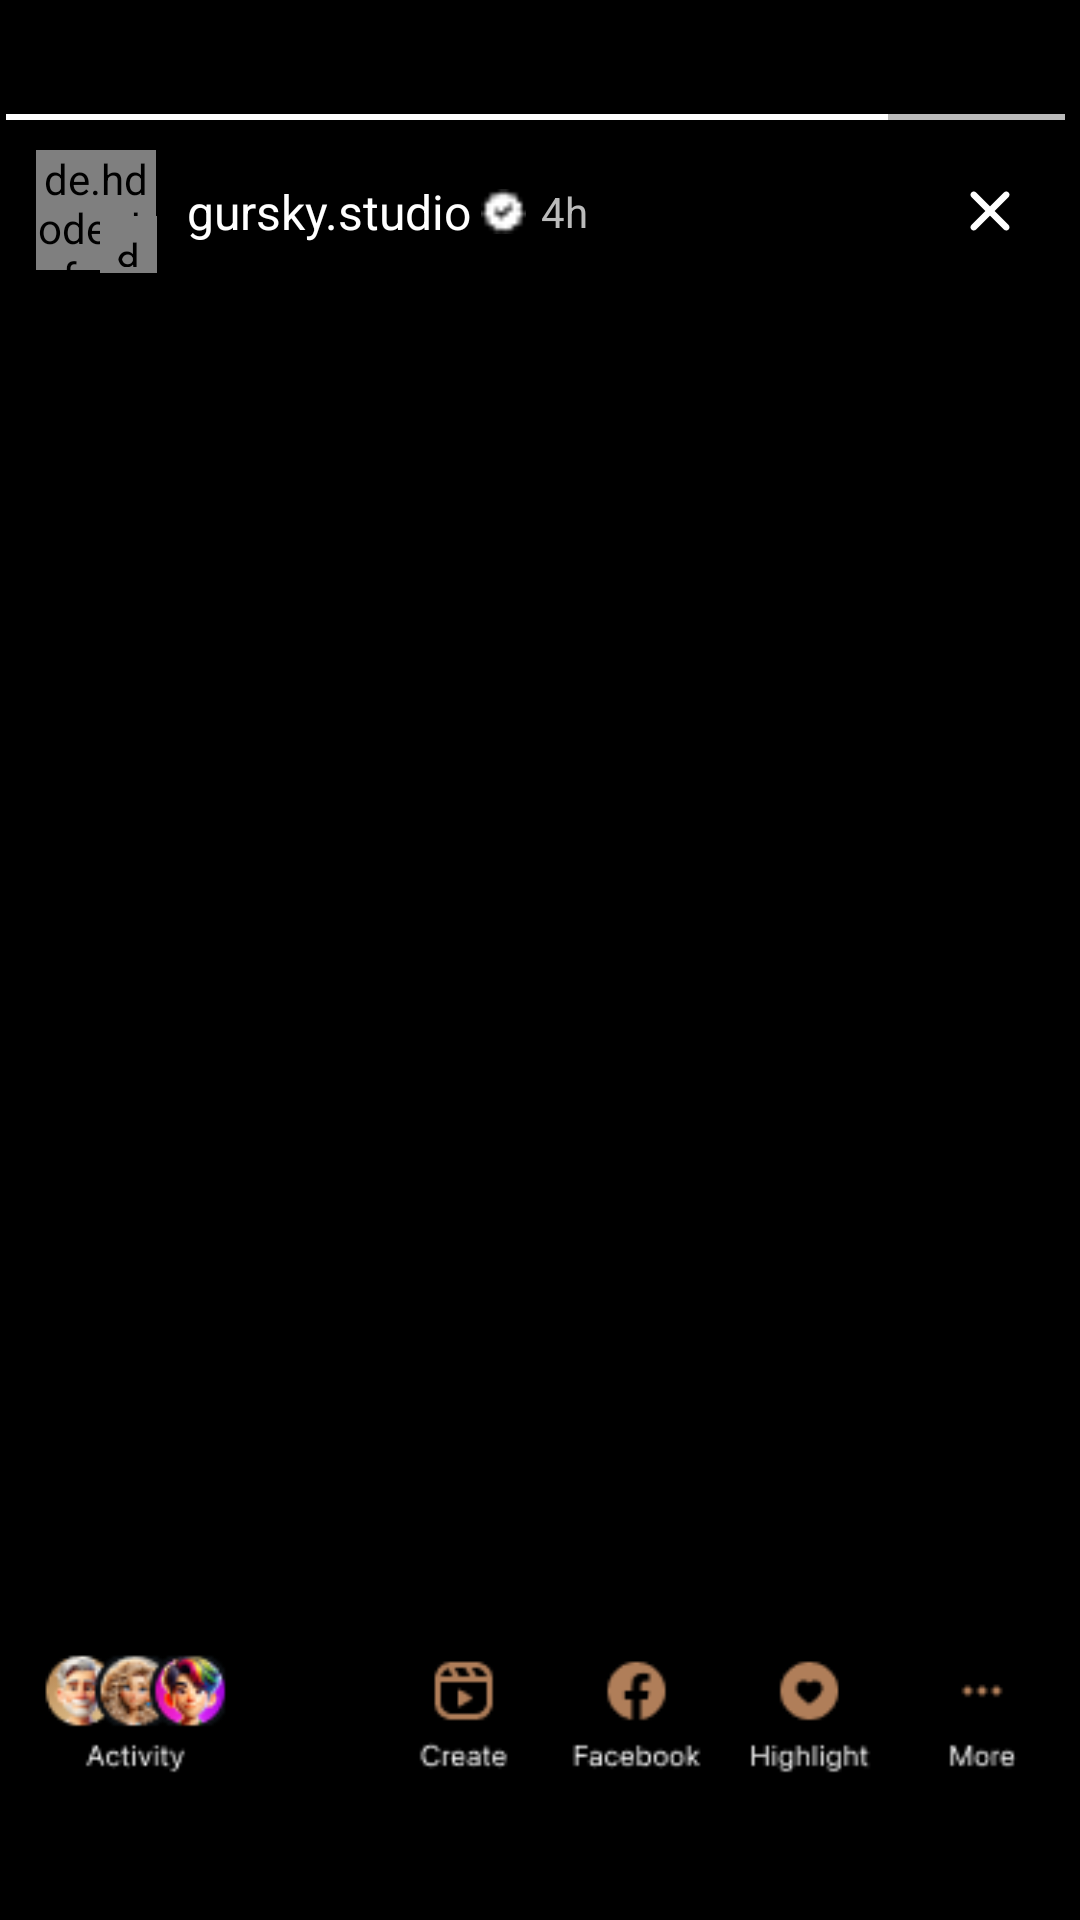

Locate icon controls on the screen. Image size 1080x1920, boxes as (x1, y1, x2, y2).
badge: (481, 189, 526, 234)
close: (970, 191, 1010, 231)
